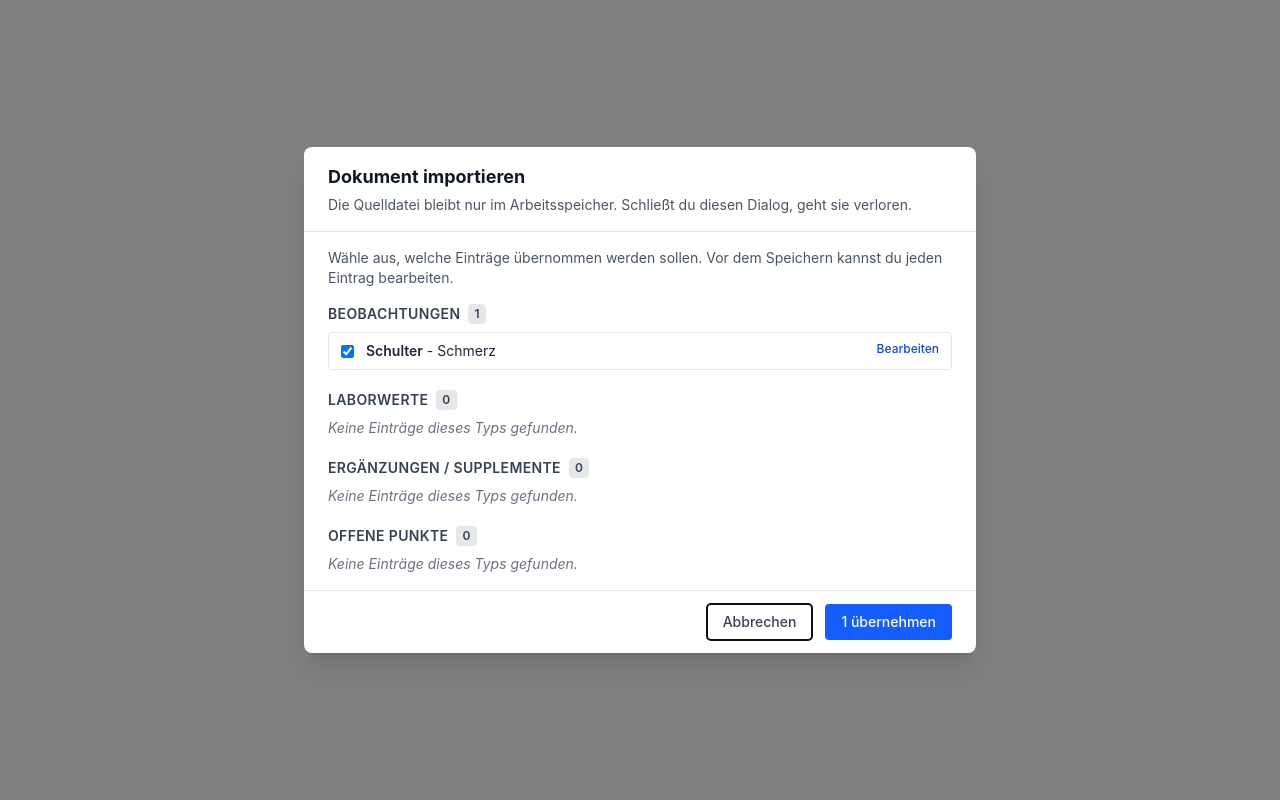
ImportFlow › renders commit-error message when commitDrafts throws
Expected: the element with test id "review-panel" is shown, [328,304,952,574]
Click the button "1 übernehmen" at (889, 622), box [825,604,952,640]
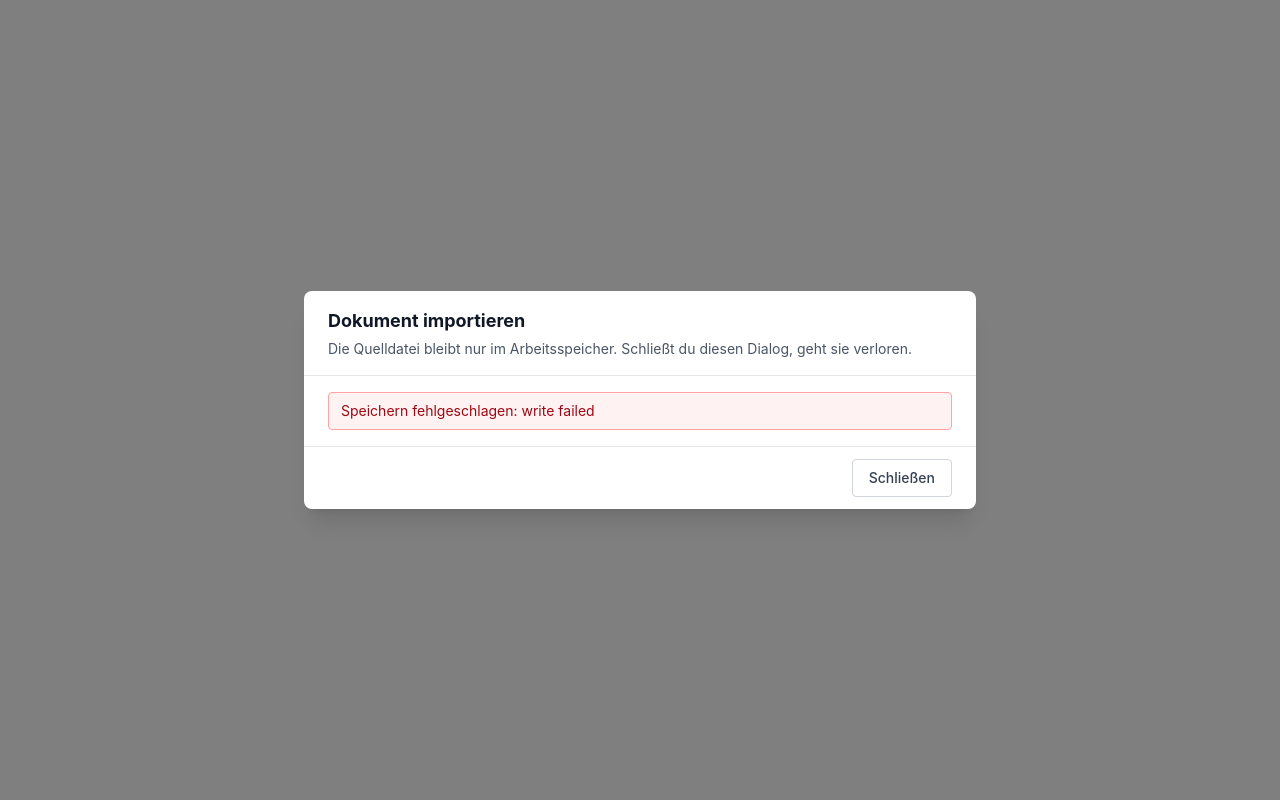
Expected: the text "Speichern fehlgeschlagen: write failed" is shown, [328,392,952,430]
